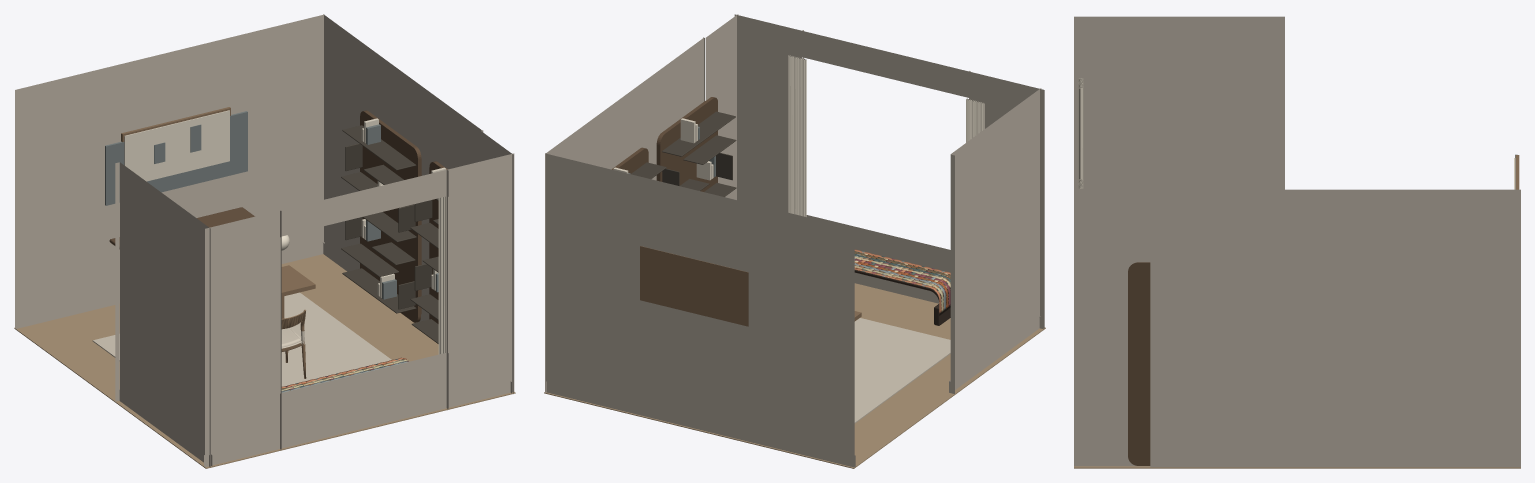
File: formal-3.glb
3 views of the same model, side by side, from view 1: azimuth 30°, elevation 25°; view 2: azimuth 150°, elevation 25°; view 3: azimuth 270°, elevation 25° (orthographic). The views are drawn at different scales.
Parts seen in each view (by area): view 1: DESIGN | formal removable wall finish, DESIGN | formal floor finish, DESIGN | Required Blabla bookcase 2, DESIGN | Formal ground, DESIGN | Textile artwork, DESIGN | Writing wall textile, DESIGN | Required Blabla bookcase 1, DESIGN | Formal soft window edge.001, DESIGN | Working chair facing desk, DESIGN | Required Brera anniversary window bench, DESIGN | Working desk top, DESIGN | Required Terminal console against formal north wall; view 2: DESIGN | formal removable wall finish, DESIGN | formal floor finish, DESIGN | Quiet artwork frame, DESIGN | Formal ground, DESIGN | Required Blabla bookcase 1, DESIGN | Formal soft window edge.001, DESIGN | Required Brera anniversary window bench, DESIGN | Required Blabla bookcase 2, DESIGN | Formal soft window edge; view 3: DESIGN | formal removable wall finish, DESIGN | Required Blabla bookcase 1, DESIGN | formal floor finish, DESIGN | Formal soft window edge.
Part boxes in pixels (x1,y1,x2,y2): DESIGN | formal removable wall finish: [15, 14, 514, 466]; DESIGN | formal floor finish: [14, 254, 515, 468]; DESIGN | Required Blabla bookcase 2: [341, 110, 421, 322]; DESIGN | Formal ground: [92, 292, 391, 386]; DESIGN | Textile artwork: [124, 110, 229, 181]; DESIGN | Writing wall textile: [105, 111, 247, 205]; DESIGN | Required Blabla bookcase 1: [410, 161, 447, 343]; DESIGN | Formal soft window edge.001: [438, 196, 446, 354]; DESIGN | Working chair facing desk: [281, 309, 306, 378]; DESIGN | Required Brera anniversary window bench: [281, 357, 409, 392]; DESIGN | Working desk top: [281, 265, 315, 296]; DESIGN | Required Terminal console against formal north wall: [109, 207, 254, 249]; DESIGN | formal removable wall finish: [545, 14, 1044, 467]; DESIGN | formal floor finish: [544, 283, 1045, 468]; DESIGN | Quiet artwork frame: [640, 246, 748, 326]; DESIGN | Formal ground: [854, 318, 950, 423]; DESIGN | Required Blabla bookcase 1: [656, 97, 736, 196]; DESIGN | Formal soft window edge.001: [788, 55, 806, 216]; DESIGN | Required Brera anniversary window bench: [854, 249, 950, 325]; DESIGN | Required Blabla bookcase 2: [611, 147, 666, 178]; DESIGN | Formal soft window edge: [966, 98, 984, 142]; DESIGN | formal removable wall finish: [1074, 16, 1520, 467]; DESIGN | Required Blabla bookcase 1: [1128, 262, 1150, 465]; DESIGN | formal floor finish: [1074, 466, 1520, 468]; DESIGN | Formal soft window edge: [1078, 78, 1083, 181].
Bounding box in the file's own units: 3.71 × 2.74 × 3.98.
